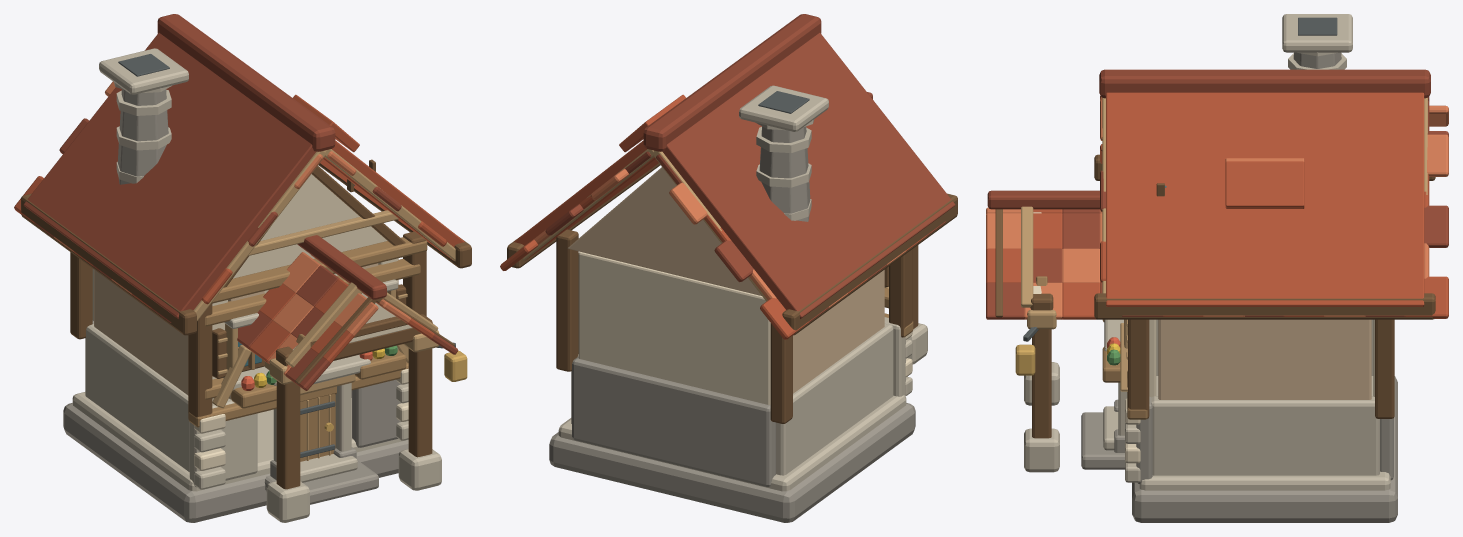
The model's file is medieval_house.glb.
The picture shows the model from 3 angles, left to right: view 1: azimuth 30°, elevation 25°; view 2: azimuth 150°, elevation 25°; view 3: azimuth 270°, elevation 25°; orthographic projection. The views are drawn at different scales.
Parts seen in each view (by area): view 1: MedievalHouse_Rebuilt_Geometry; view 2: MedievalHouse_Rebuilt_Geometry; view 3: MedievalHouse_Rebuilt_Geometry.
Part boxes in pixels (x1,y1,x2,y2): MedievalHouse_Rebuilt_Geometry: (14,14,471,522); MedievalHouse_Rebuilt_Geometry: (500,14,957,522); MedievalHouse_Rebuilt_Geometry: (986,14,1448,522).
Size of the model in its own units: 2.13 by 2.69 by 2.82.
